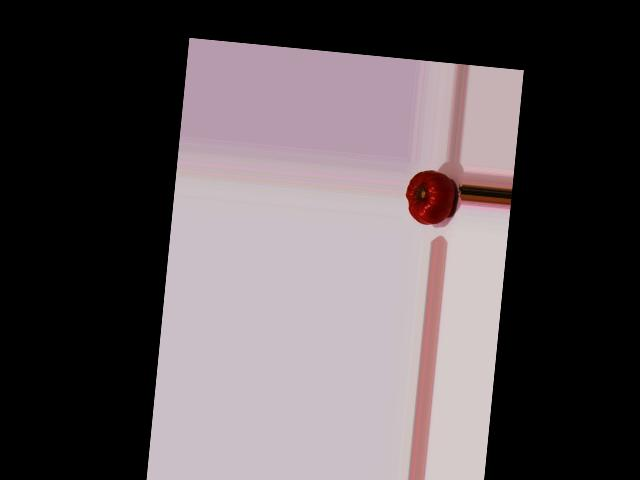tomato: (403, 168, 456, 226)
